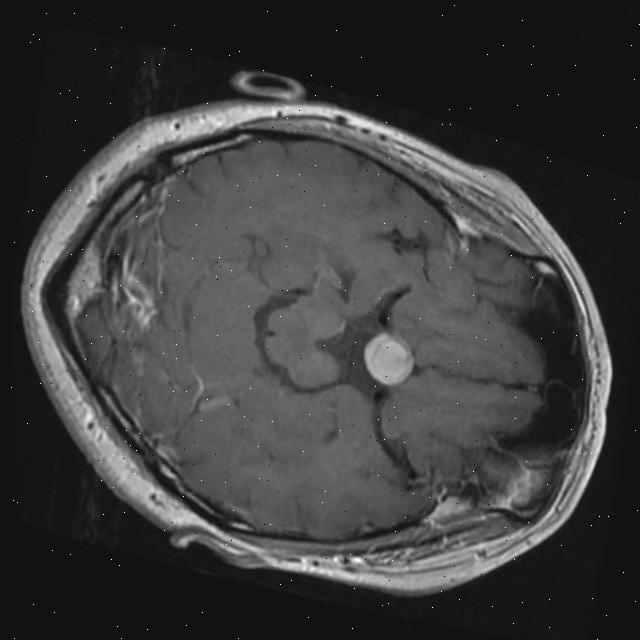Pituitary: (357, 325, 417, 390)
